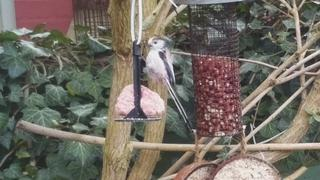long tailed tit: (142, 37, 192, 130)
